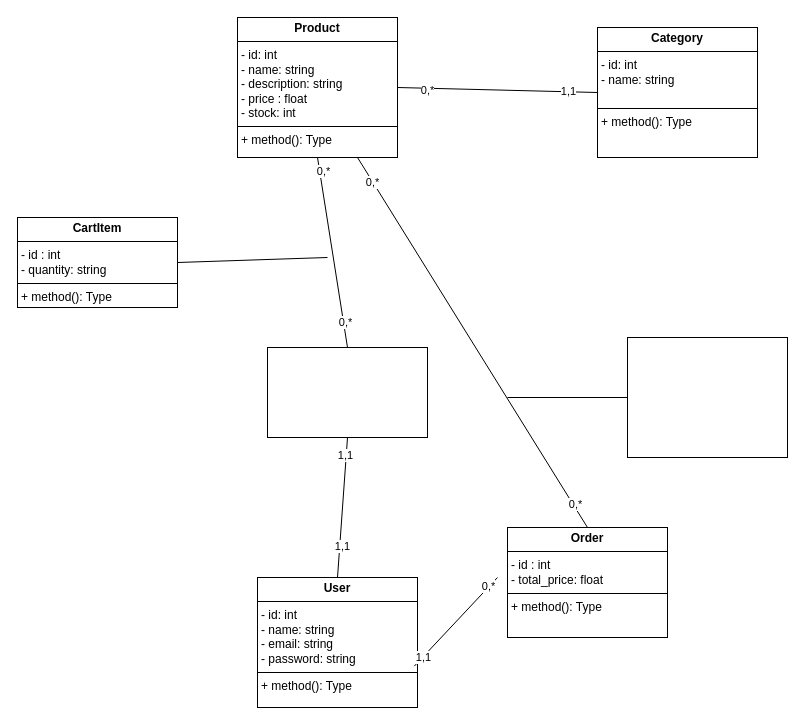
This 805x725 diagram has some shape labels left out. The shapes that lost their labels are listed below. From the top down, each one's centre as x and y in pixels, then its label:
(347,392): Cart + id: int + method(): Type
(707,397): OrderItem - id: int - quantity: string - price : float + method(): Type
